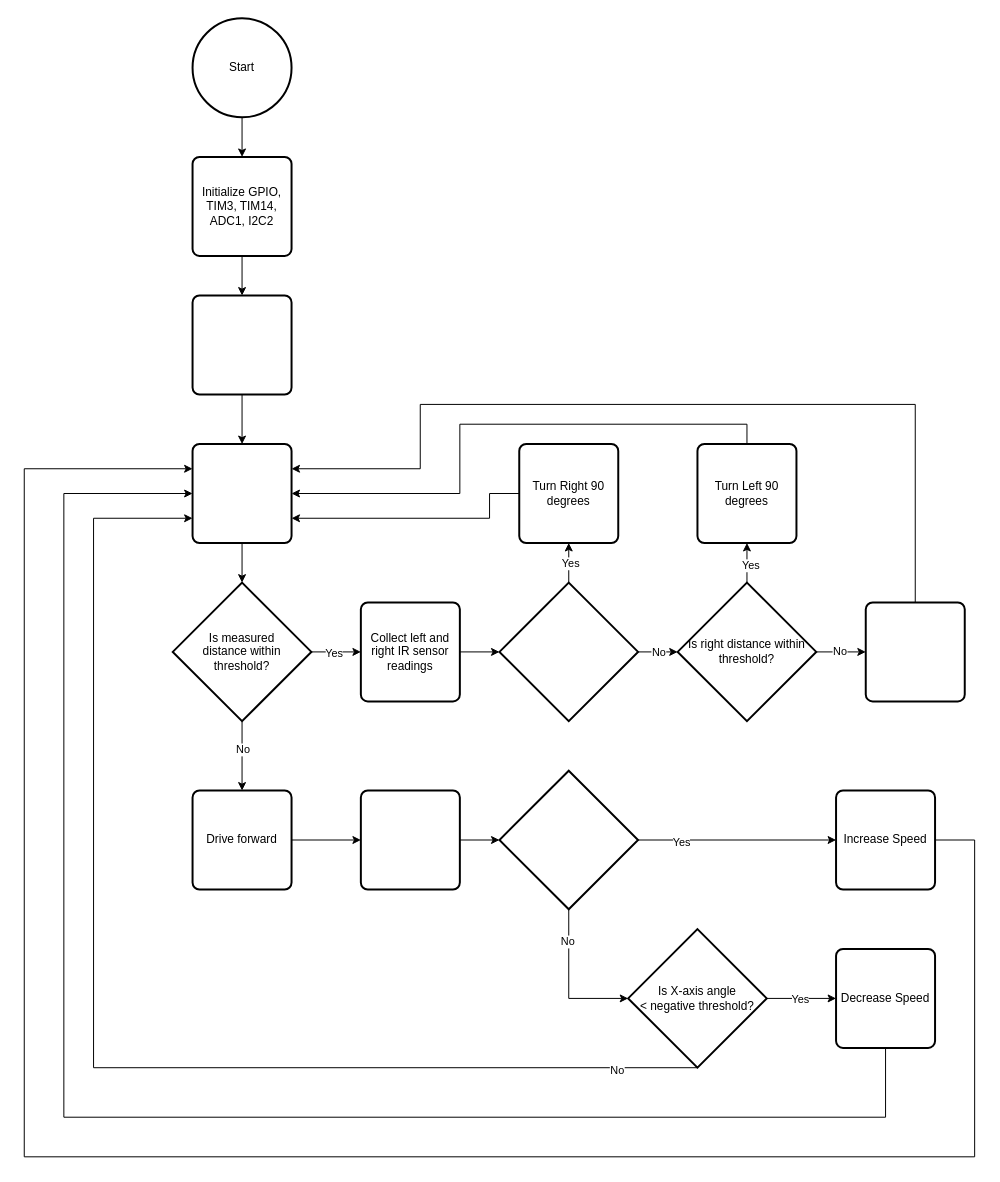
The diagram is 1000 pixels wide and 1182 high, and some of its shapes have lost their labels. The box of each missing label's shape, as (x1, y1, x2, y2) in pixels:
Collect centered IR sensor reading: (191, 443, 292, 544)
Collect gyro data and integrate: (359, 789, 460, 890)
Enable Gyro X,Y,Z axes: (191, 294, 292, 395)
Is left distance within threshold?: (498, 581, 639, 722)
Is X-axis angle > positive threshold?: (498, 769, 639, 910)
Turn 90 degrees in previous rotation direction: (864, 601, 965, 702)
